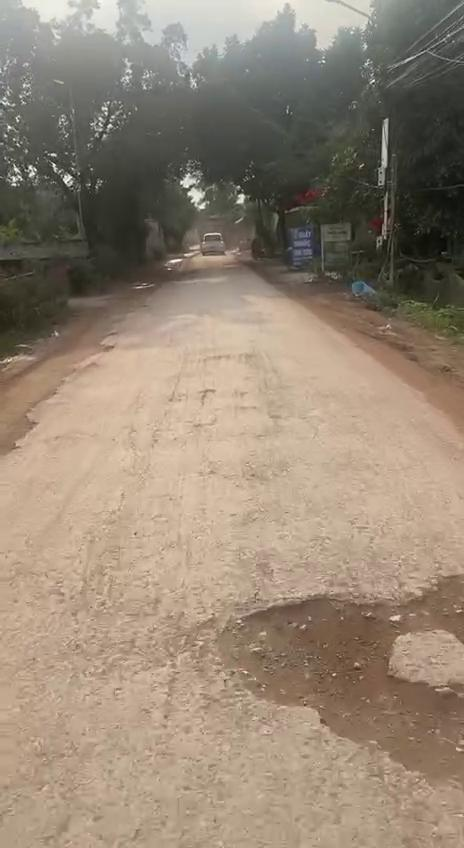pothole: (195, 567, 464, 785)
